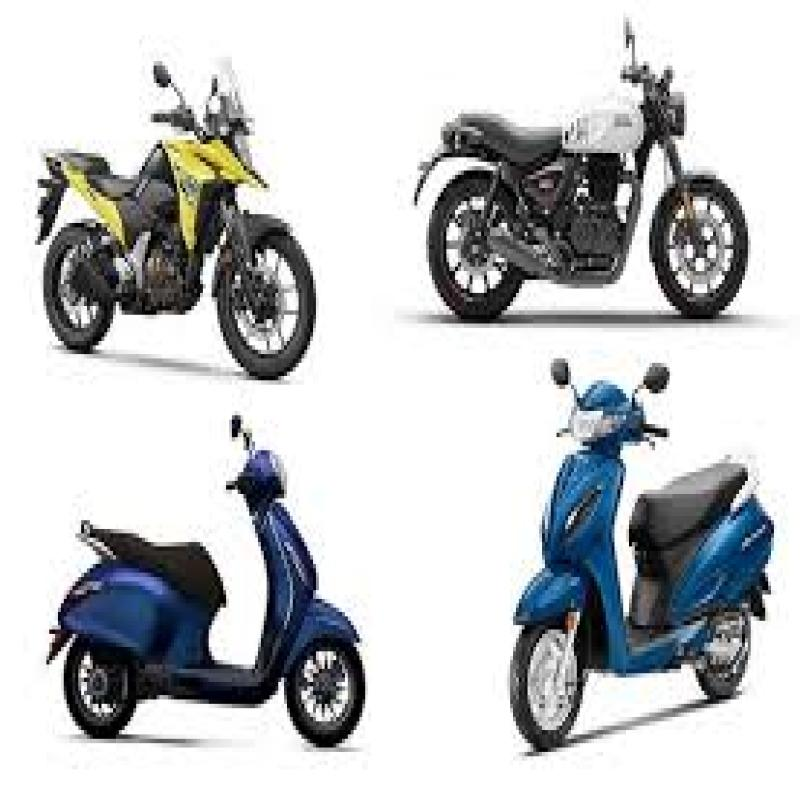bike: (42, 413, 379, 763), (38, 15, 328, 420), (497, 352, 781, 754), (415, 7, 762, 335)
